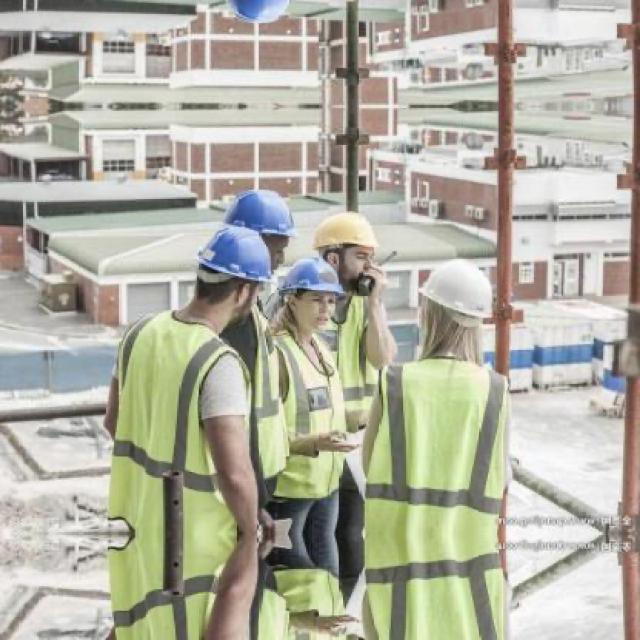helmet: (198, 199, 284, 318), (417, 254, 500, 354), (272, 253, 350, 336), (308, 210, 386, 288), (226, 190, 302, 259), (226, 0, 303, 25)
